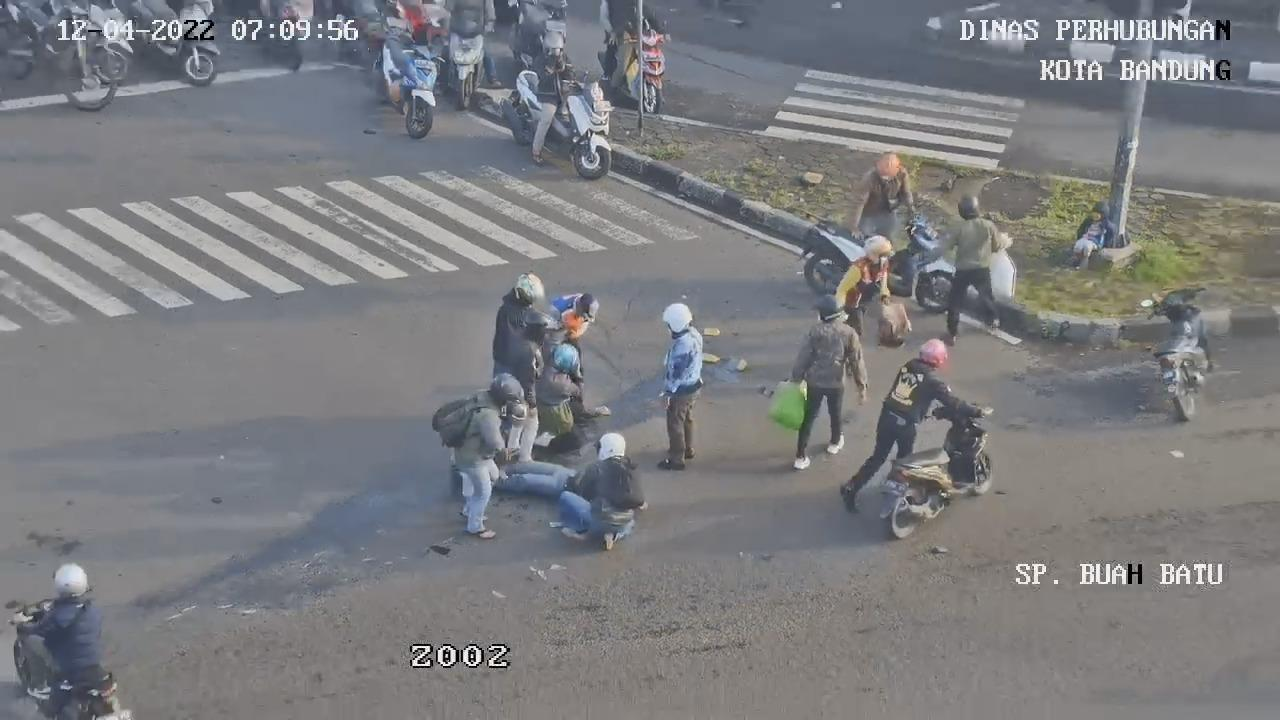accident: (489, 453, 576, 496)
